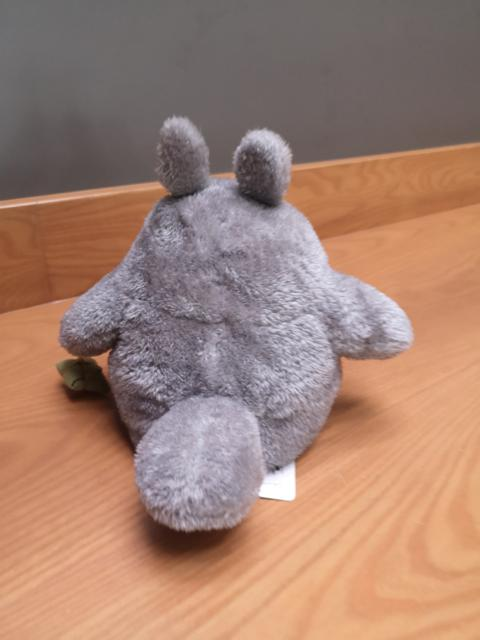totoro: (53, 110, 420, 548)
